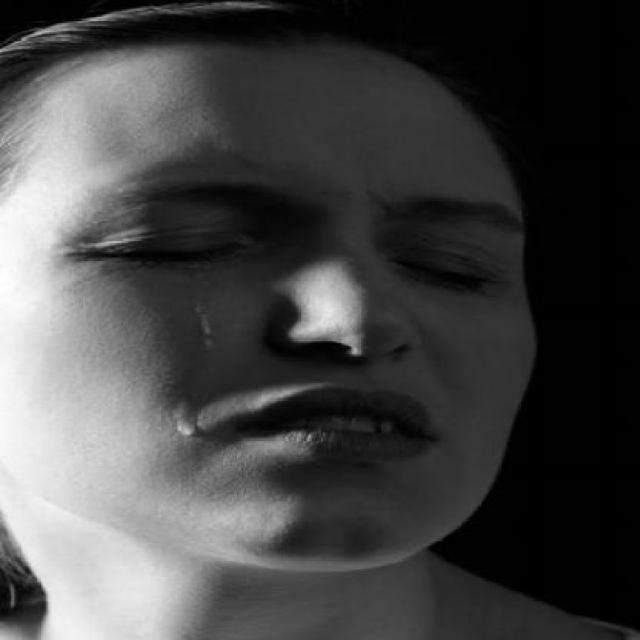sad: (43, 152, 525, 468)
